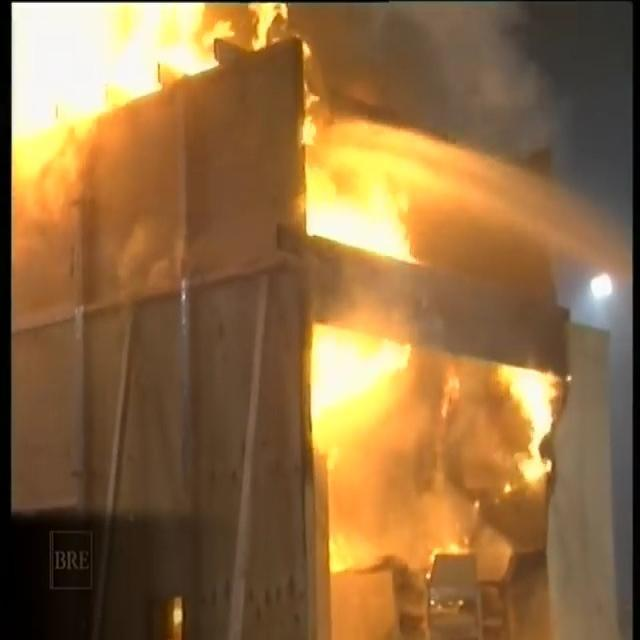Fire: (16, 12, 476, 430)
